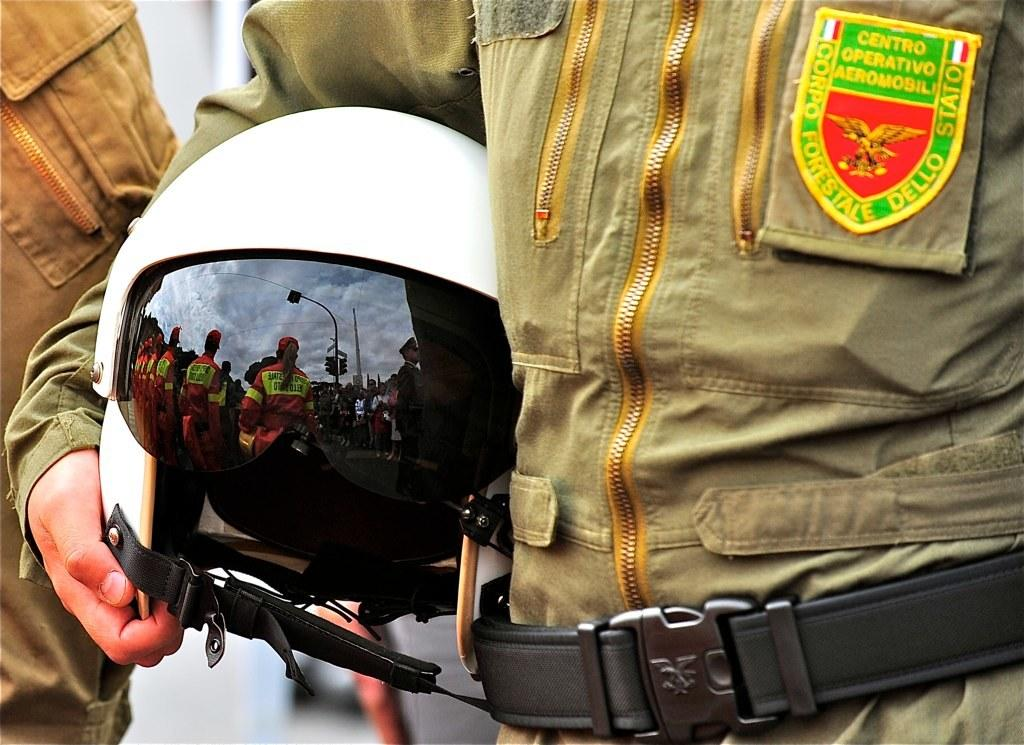helmet: (92, 106, 562, 623)
